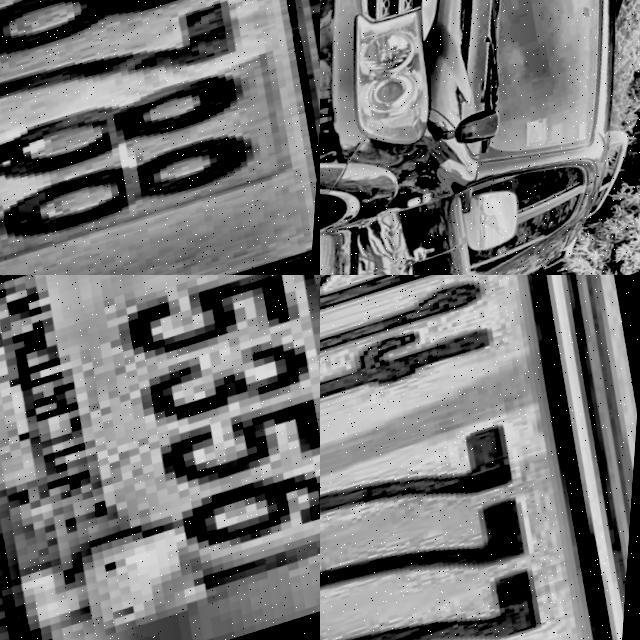license-plate: (0, 275, 320, 640), (320, 275, 640, 640), (0, 0, 320, 275)
